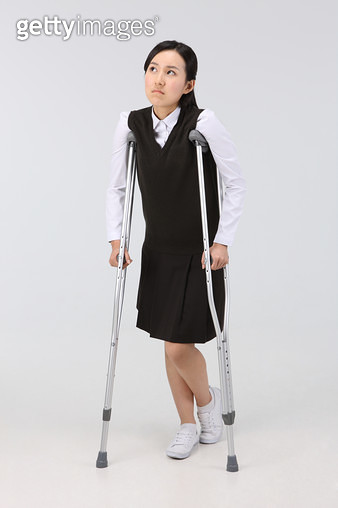crutches: (96, 42, 241, 473)
